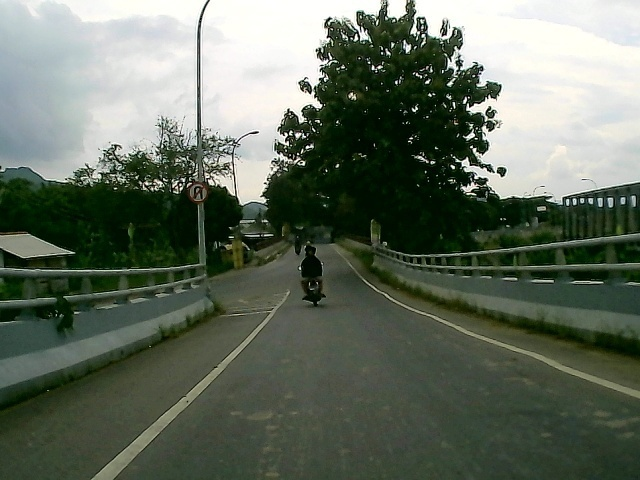Dilarang berbalik arah: (184, 181, 211, 205)
